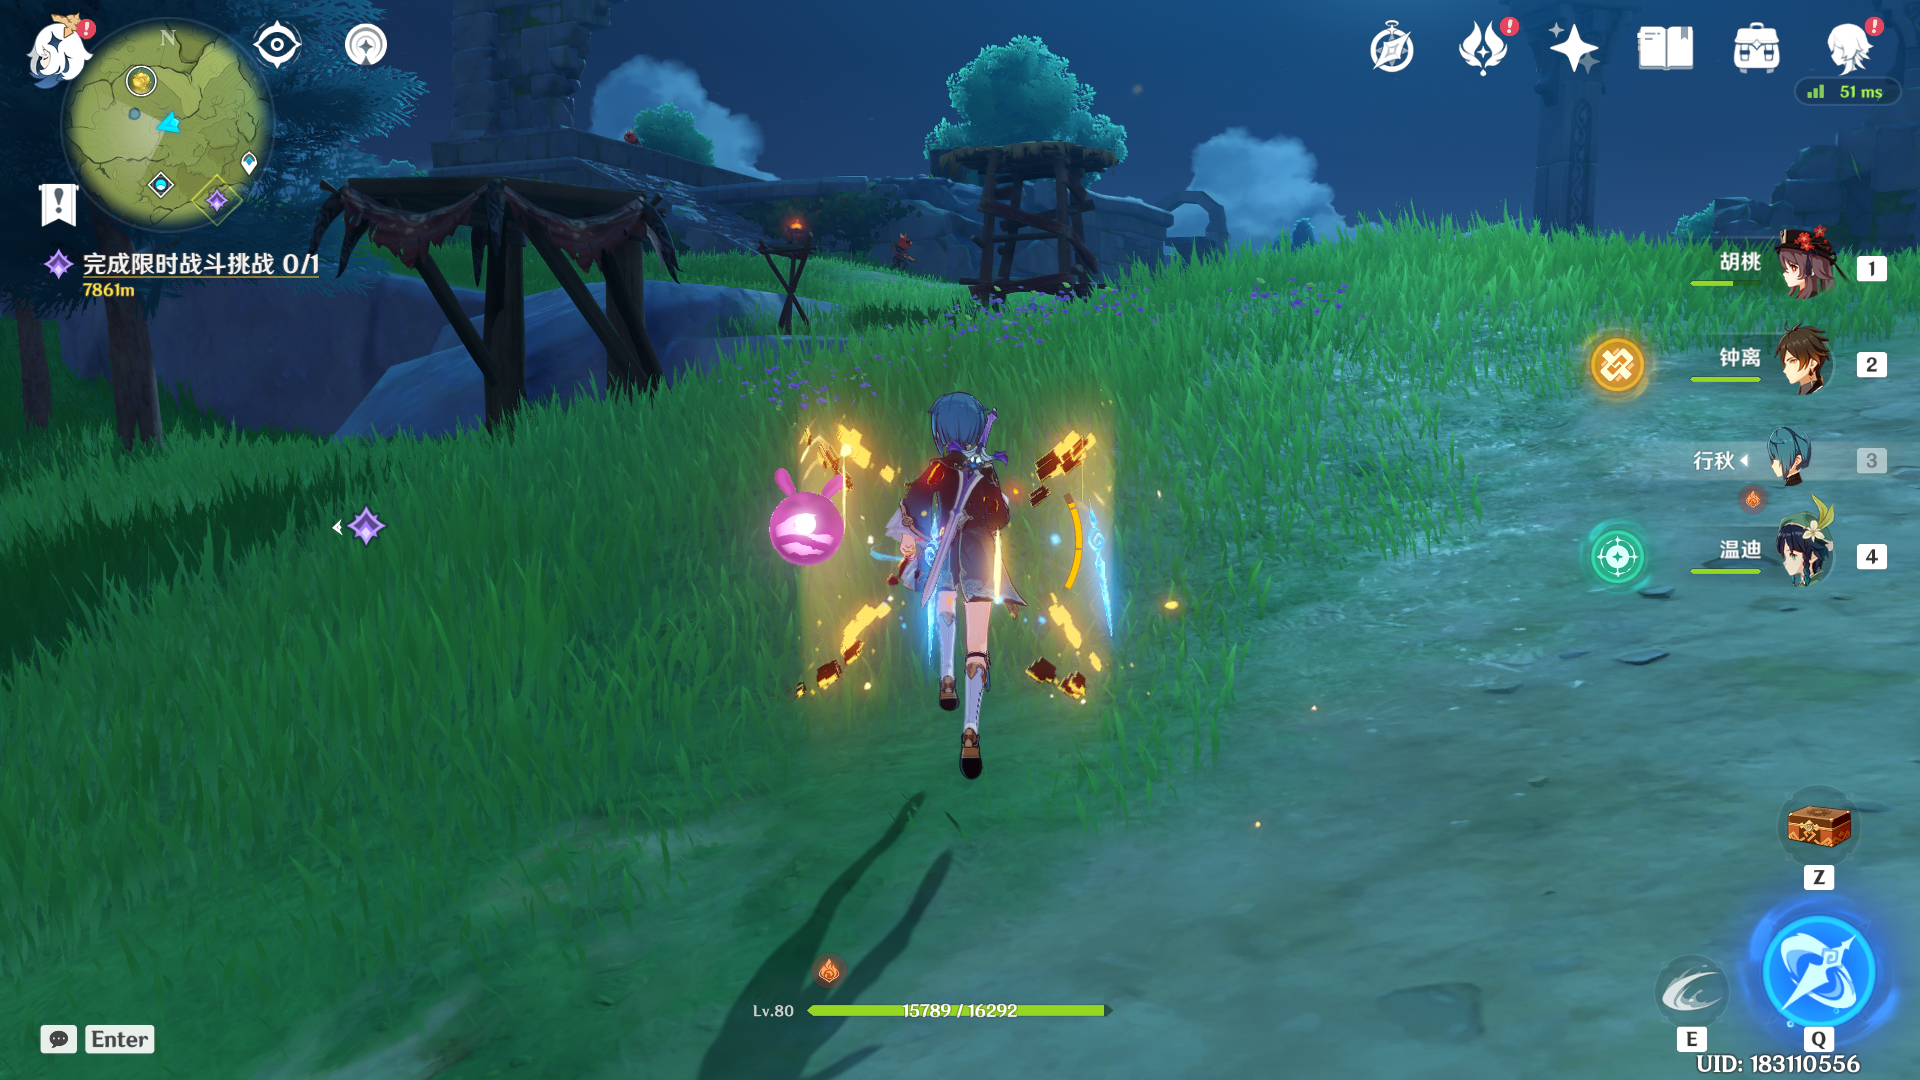hili: (818, 373, 1105, 789)
